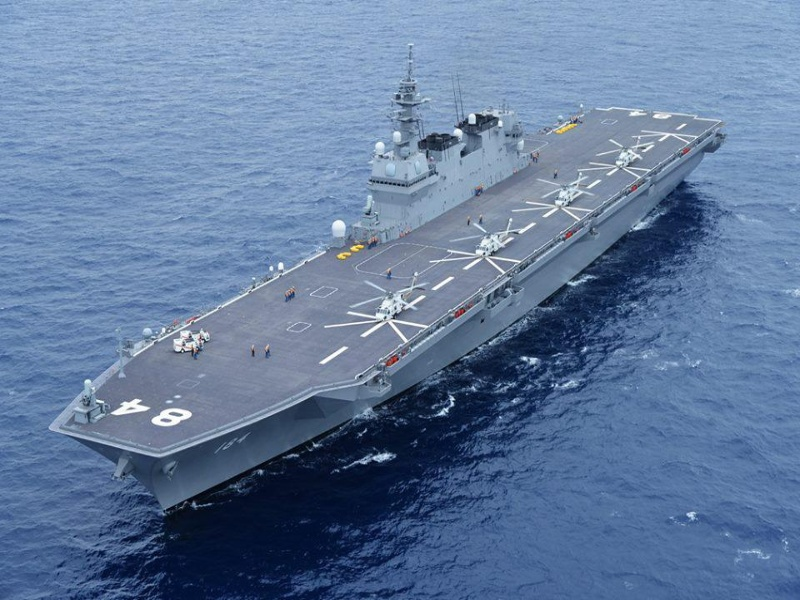carrier: (84, 70, 728, 510)
